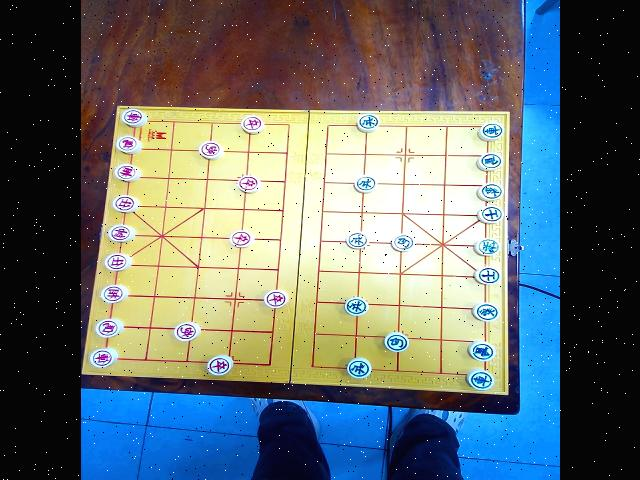piece: (467, 369, 494, 390), (468, 341, 496, 361), (89, 348, 118, 367), (95, 318, 123, 337), (207, 355, 233, 375), (174, 322, 201, 341), (478, 122, 504, 141), (477, 205, 504, 223), (472, 303, 499, 321), (105, 253, 132, 271), (101, 285, 128, 303), (347, 358, 371, 378), (121, 109, 147, 127), (116, 136, 142, 154), (108, 225, 135, 242), (113, 195, 140, 212), (384, 332, 408, 351), (199, 141, 224, 159), (477, 183, 503, 200), (474, 238, 500, 255), (474, 267, 500, 284), (115, 164, 141, 181), (237, 175, 261, 193), (264, 290, 288, 308), (477, 153, 502, 170), (229, 230, 254, 247), (357, 113, 379, 132), (345, 297, 368, 315), (241, 115, 264, 133), (391, 235, 415, 251), (346, 232, 368, 248), (354, 176, 376, 192)
